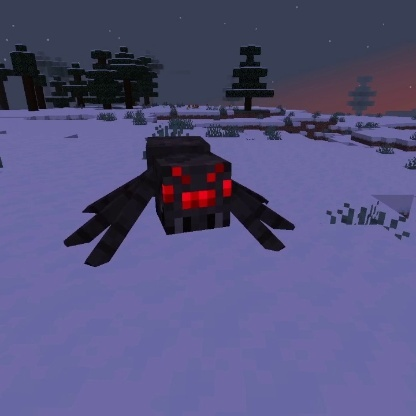spider: (61, 132, 300, 271)
